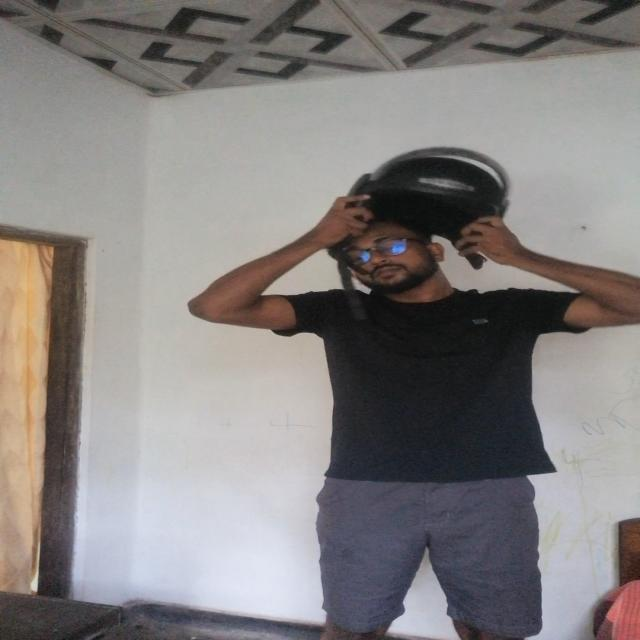Helmet_Wearer: (310, 144, 516, 304)
Person: (191, 186, 634, 640)
